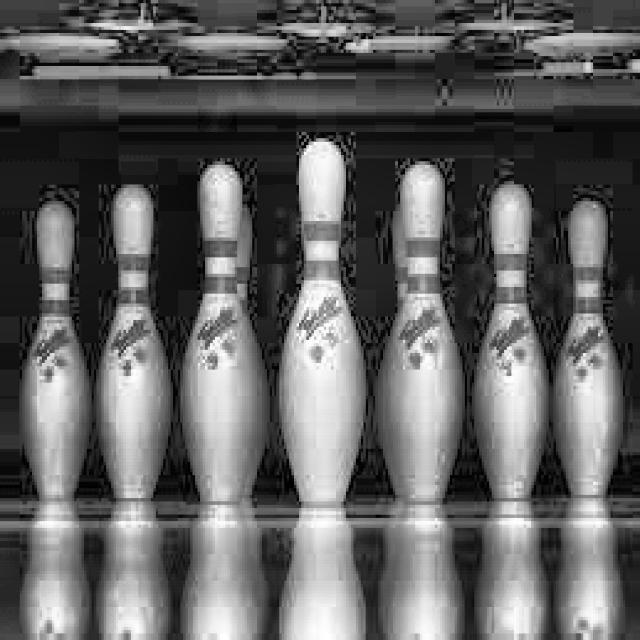bowling-pins: (279, 142, 366, 506), (381, 164, 465, 503), (180, 165, 260, 503), (474, 185, 551, 502), (96, 185, 168, 500), (22, 201, 91, 503), (556, 201, 620, 496), (237, 208, 267, 496), (397, 211, 408, 305)
